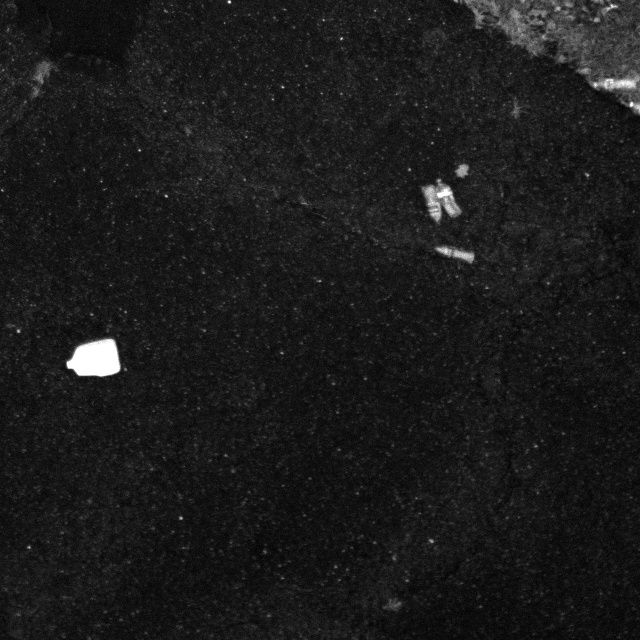bottle: (589, 69, 637, 103), (434, 173, 466, 220), (420, 179, 443, 226), (432, 247, 481, 264)
can: (63, 337, 124, 383)
